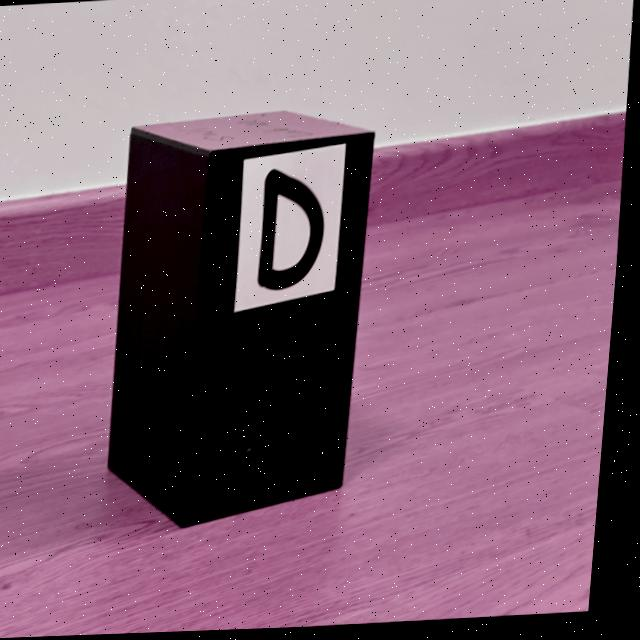D: (262, 170, 327, 292)
